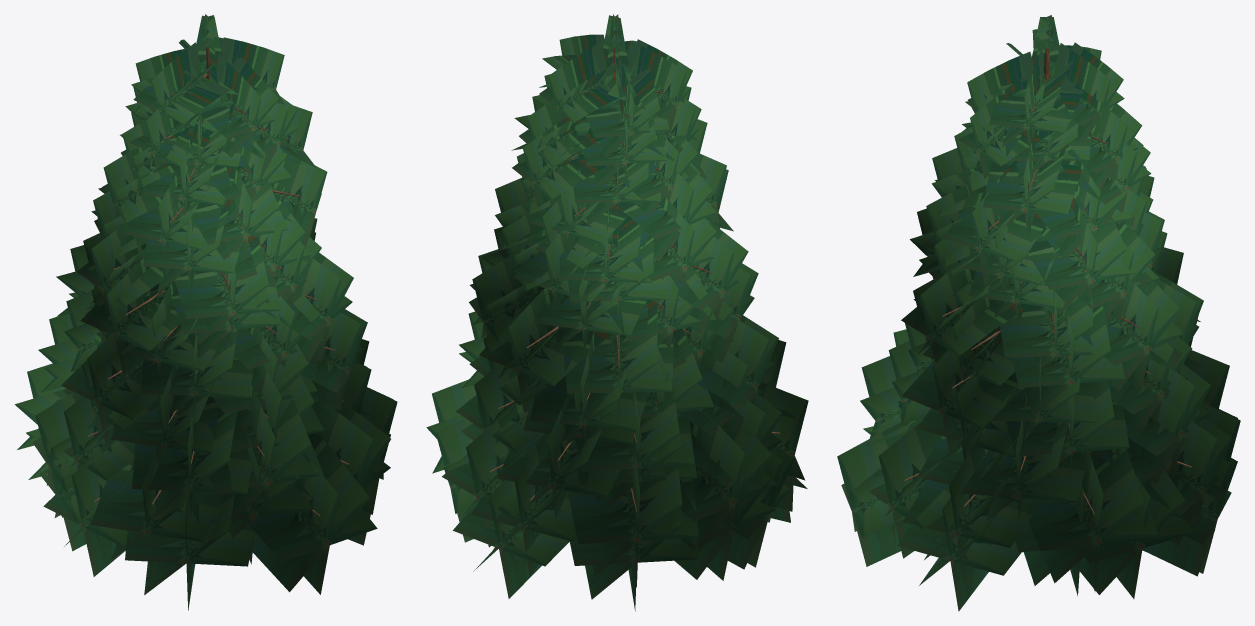
Rendered from taiga_spruce.glb.
3 views of the same model, side by side, from view 1: azimuth 30°, elevation 25°; view 2: azimuth 150°, elevation 25°; view 3: azimuth 270°, elevation 25° (orthographic). The views are drawn at different scales.
Visible parts, largest first — view 1: needle_spruce, bark_spruce; view 2: needle_spruce, bark_spruce; view 3: needle_spruce, bark_spruce.
Part boxes in pixels (x1,y1,x2,y2): needle_spruce: (14,14,397,610); bark_spruce: (88,47,348,516); needle_spruce: (426,14,808,611); bark_spruce: (489,48,779,511); needle_spruce: (837,15,1240,611); bark_spruce: (904,48,1191,514).
Bounding box in the file's own units: 5.98 × 9.57 × 6.45.
Materials: 2 (2 with a texture image).
